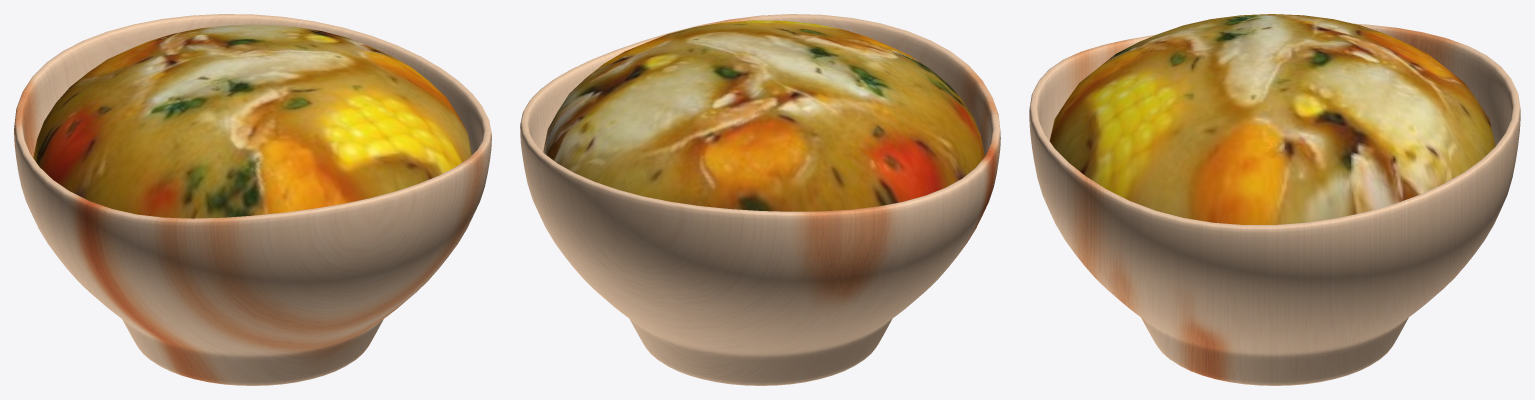
Rendered from suppe.FBX.
3 views of the same model, side by side, from view 1: azimuth 30°, elevation 25°; view 2: azimuth 150°, elevation 25°; view 3: azimuth 270°, elevation 25° (orthographic). The views are drawn at different scales.
Visible parts, largest first — view 1: Sphere001; view 2: Sphere001; view 3: Sphere001.
Part boxes in pixels (x1,y1,x2,y2): Sphere001: (14,14,491,385); Sphere001: (520,14,1000,385); Sphere001: (1029,14,1520,385).
Bounding box in the file's own units: 9.45 × 6.14 × 9.52.
